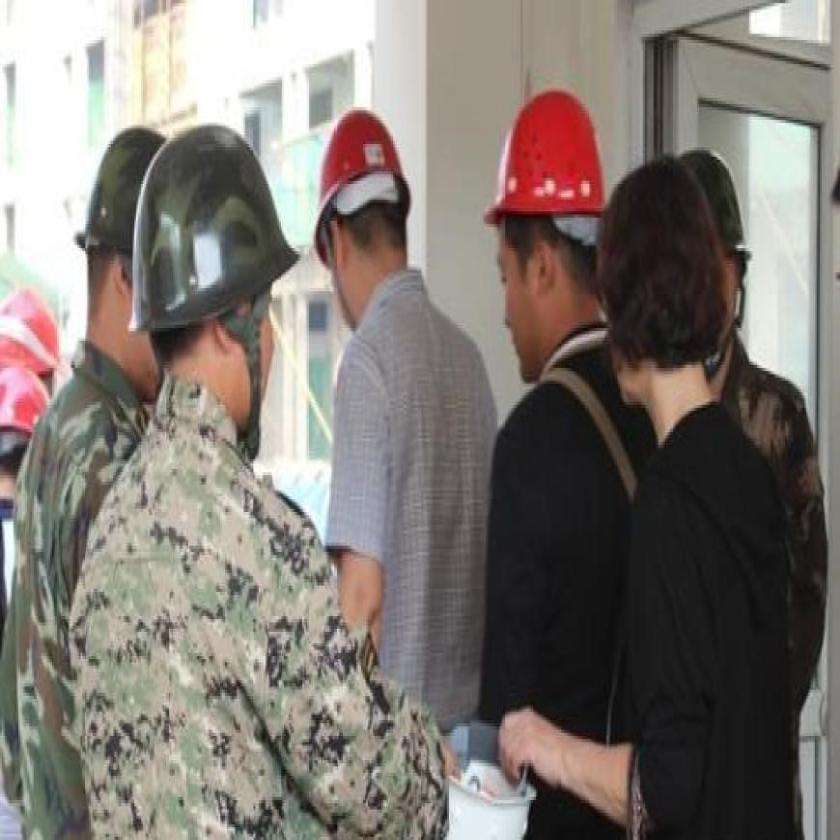Con_casco: (126, 113, 303, 462), (481, 77, 610, 380), (312, 101, 417, 337)
Sin_casco: (595, 151, 728, 437)
